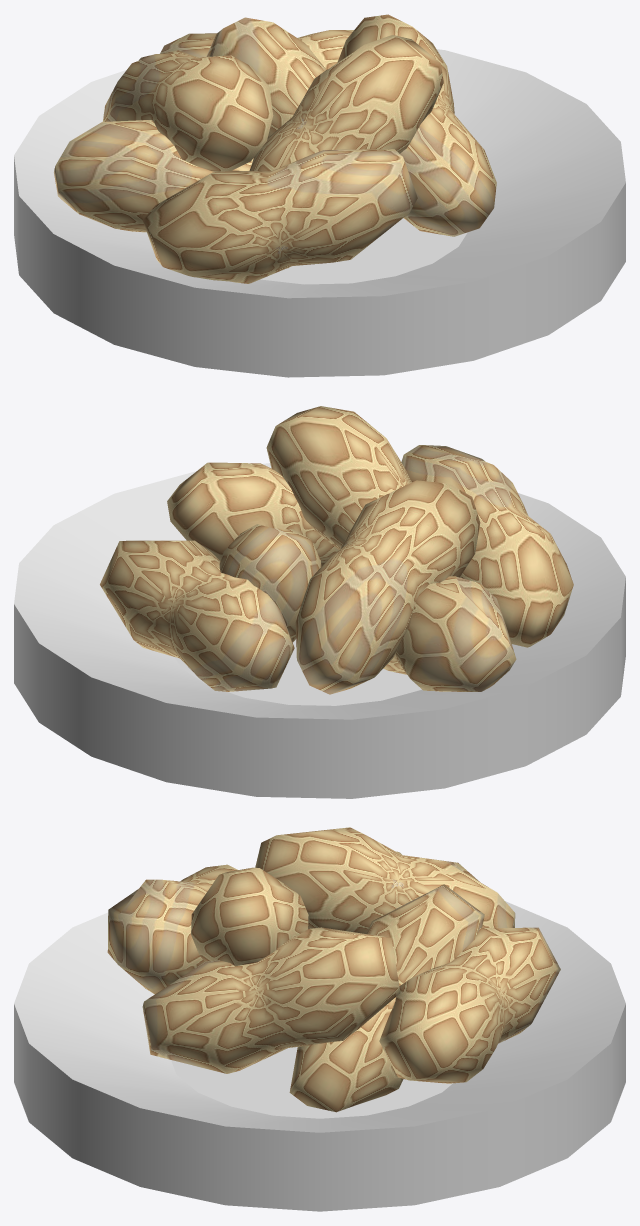
Rendered from peanut.fbx.
3 views of the same model, one above another, from view 1: azimuth 30°, elevation 25°; view 2: azimuth 150°, elevation 25°; view 3: azimuth 270°, elevation 25° (orthographic).
Parts seen in each view (by area): view 1: pCylinder1, pSphere8, pSphere2, pSphere3, pSphere7, pSphere4, pSphere5, pSphere6; view 2: pCylinder1, pSphere3, pSphere6, pSphere8, pSphere2, pSphere7, pSphere4, pSphere5; view 3: pCylinder1, pSphere4, pSphere6, pSphere3, pSphere5, pSphere8, pSphere2.
Part boxes in pixels (x1,y1,x2,y2): pCylinder1: (14,49,625,377); pSphere8: (142,149,417,283); pSphere2: (249,35,443,268); pSphere3: (102,50,273,171); pSphere7: (54,120,253,232); pSphere4: (337,14,496,236); pSphere5: (206,17,326,137); pSphere6: (160,30,353,69); pCylinder1: (14,463,625,798); pSphere3: (295,480,480,694); pSphere6: (100,540,294,691); pSphere8: (401,445,573,647); pSphere2: (266,406,411,549); pSphere7: (383,576,516,691); pSphere4: (167,462,338,566); pSphere5: (219,524,321,642); pCylinder1: (14,901,625,1211); pSphere4: (142,927,400,1073); pSphere6: (379,927,560,1083); pSphere3: (255,827,515,933); pSphere5: (289,884,484,1112); pSphere8: (107,864,237,994); pSphere2: (191,867,308,965).
Size of the model in its own units: 5.37 by 2.14 by 5.37.
Materials: 2 (1 with a texture image).
